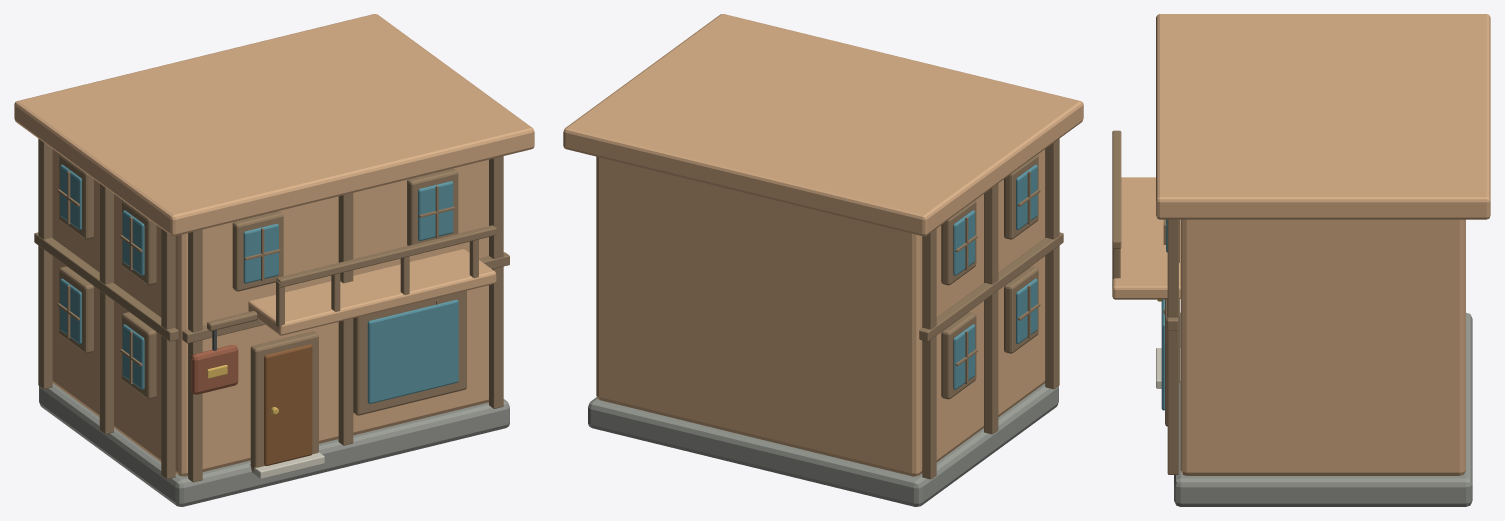
The model's file is arid-merchant-0.glb.
3 views of the same model, side by side, from view 1: azimuth 30°, elevation 25°; view 2: azimuth 150°, elevation 25°; view 3: azimuth 270°, elevation 25° (orthographic). The views are drawn at different scales.
Parts seen in each view (by area): view 1: Adobe cream, Palm beams, Blue glass, Foundation stone, Adobe wood, Door oak, Painted sign, Cut limestone; view 2: Adobe cream, Palm beams, Foundation stone, Blue glass; view 3: Adobe cream, Foundation stone, Adobe wood, Palm beams, Blue glass.
Boxes of the visible parts, bbox=[...] form: Adobe cream: bbox=[14, 14, 534, 476]; Palm beams: bbox=[34, 139, 509, 482]; Blue glass: bbox=[60, 164, 458, 403]; Foundation stone: bbox=[39, 383, 509, 506]; Adobe wood: bbox=[248, 249, 496, 335]; Door oak: bbox=[264, 344, 312, 465]; Painted sign: bbox=[191, 345, 238, 394]; Cut limestone: bbox=[249, 452, 324, 478]; Adobe cream: bbox=[563, 14, 1083, 476]; Palm beams: bbox=[919, 139, 1063, 479]; Foundation stone: bbox=[588, 383, 1058, 506]; Blue glass: bbox=[953, 164, 1037, 389]; Adobe cream: bbox=[1156, 14, 1490, 475]; Foundation stone: bbox=[1174, 312, 1472, 506]; Adobe wood: bbox=[1112, 177, 1180, 299]; Palm beams: bbox=[1112, 130, 1179, 474]; Blue glass: bbox=[1161, 219, 1167, 410].
Size of the model in its own units: 3.94 by 3.14 by 3.38.
